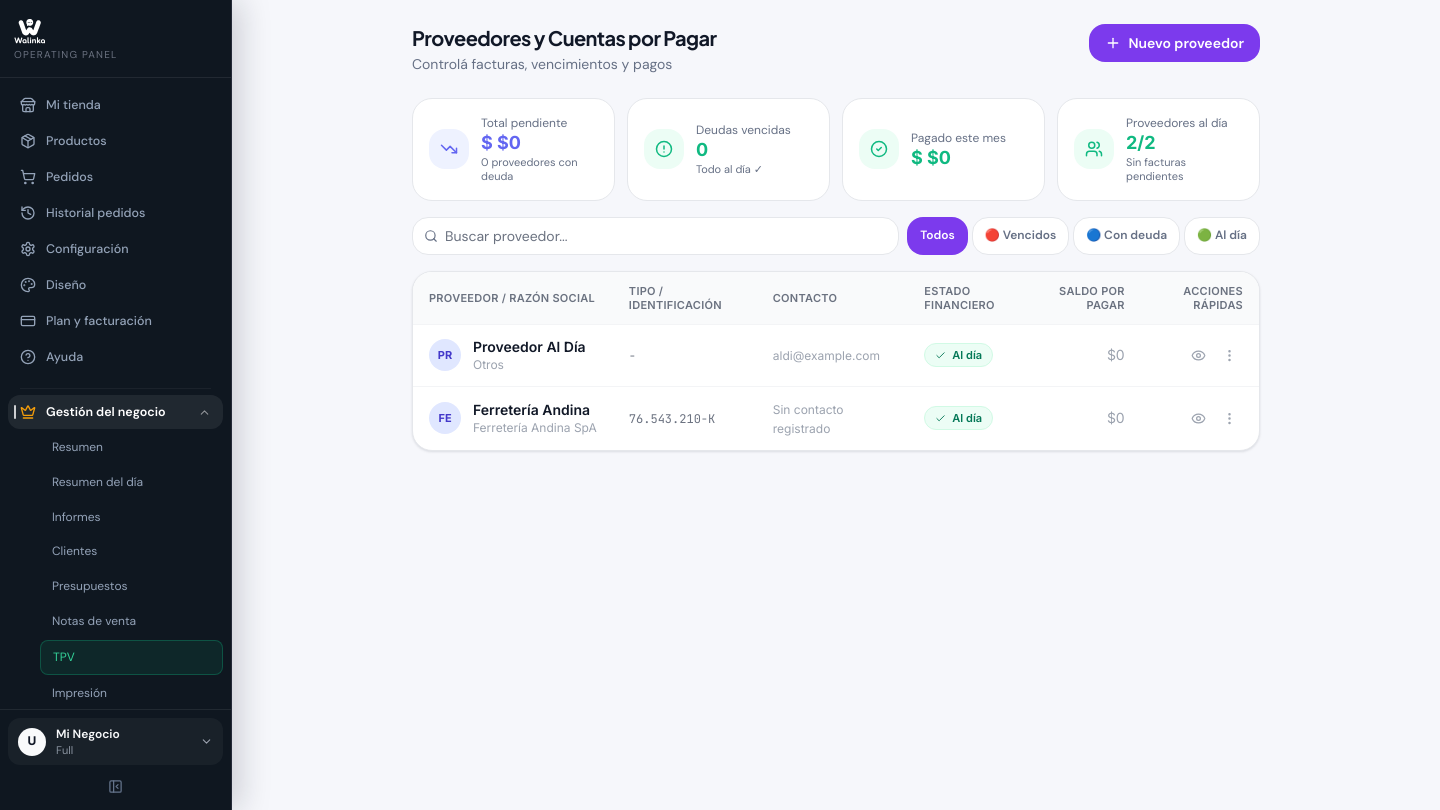
Búsqueda por RUT y razón social › buscar por RUT encuentra al proveedor
The image size is (1440, 810).
Type "76.543.210-k" into the field with placeholder "Buscar proveedor...". click: [656, 236]
box: [412, 217, 899, 255]
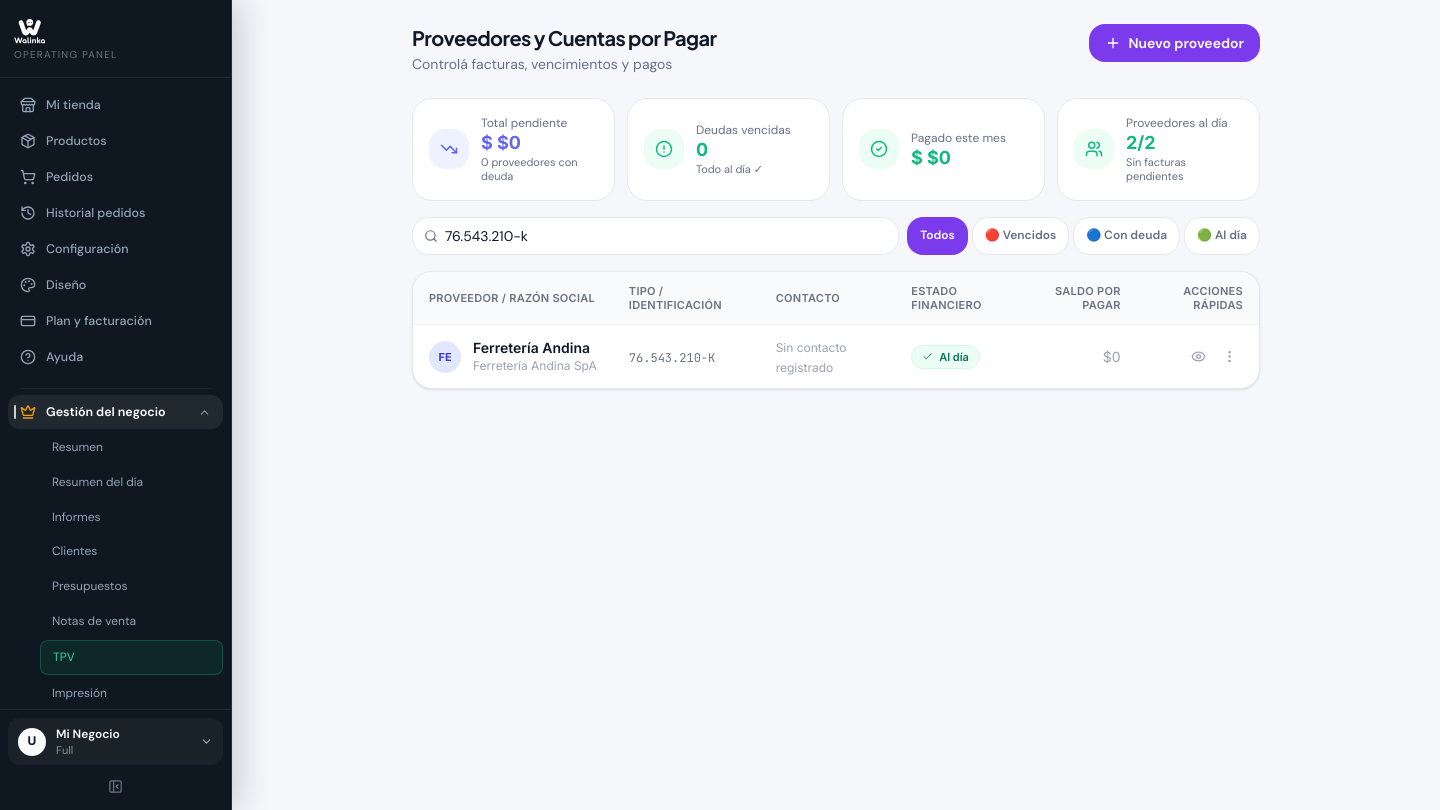
Now the text "Proveedor Al Día" is gone
